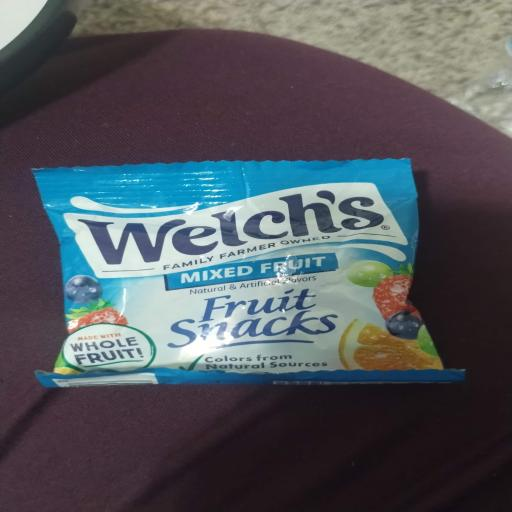chocolate: (35, 160, 463, 386)
